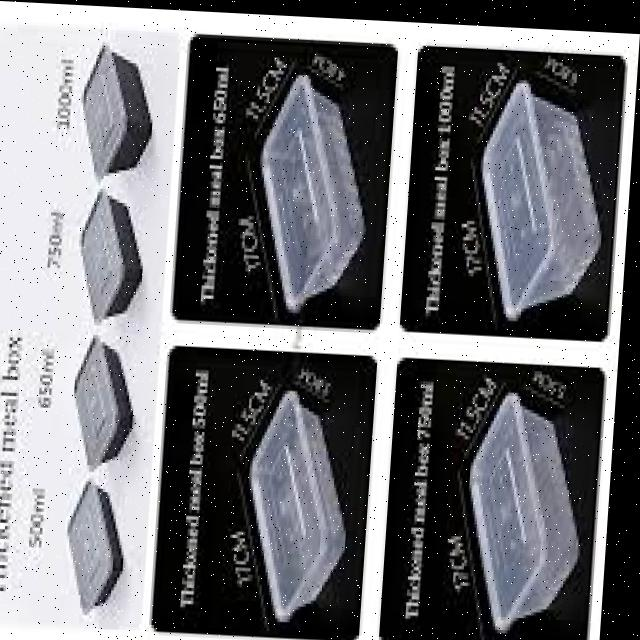disposable: (459, 55, 619, 323), (234, 59, 395, 305), (451, 389, 599, 626), (224, 404, 363, 598), (68, 32, 169, 177), (64, 170, 161, 319), (56, 458, 151, 603), (55, 341, 152, 482)
